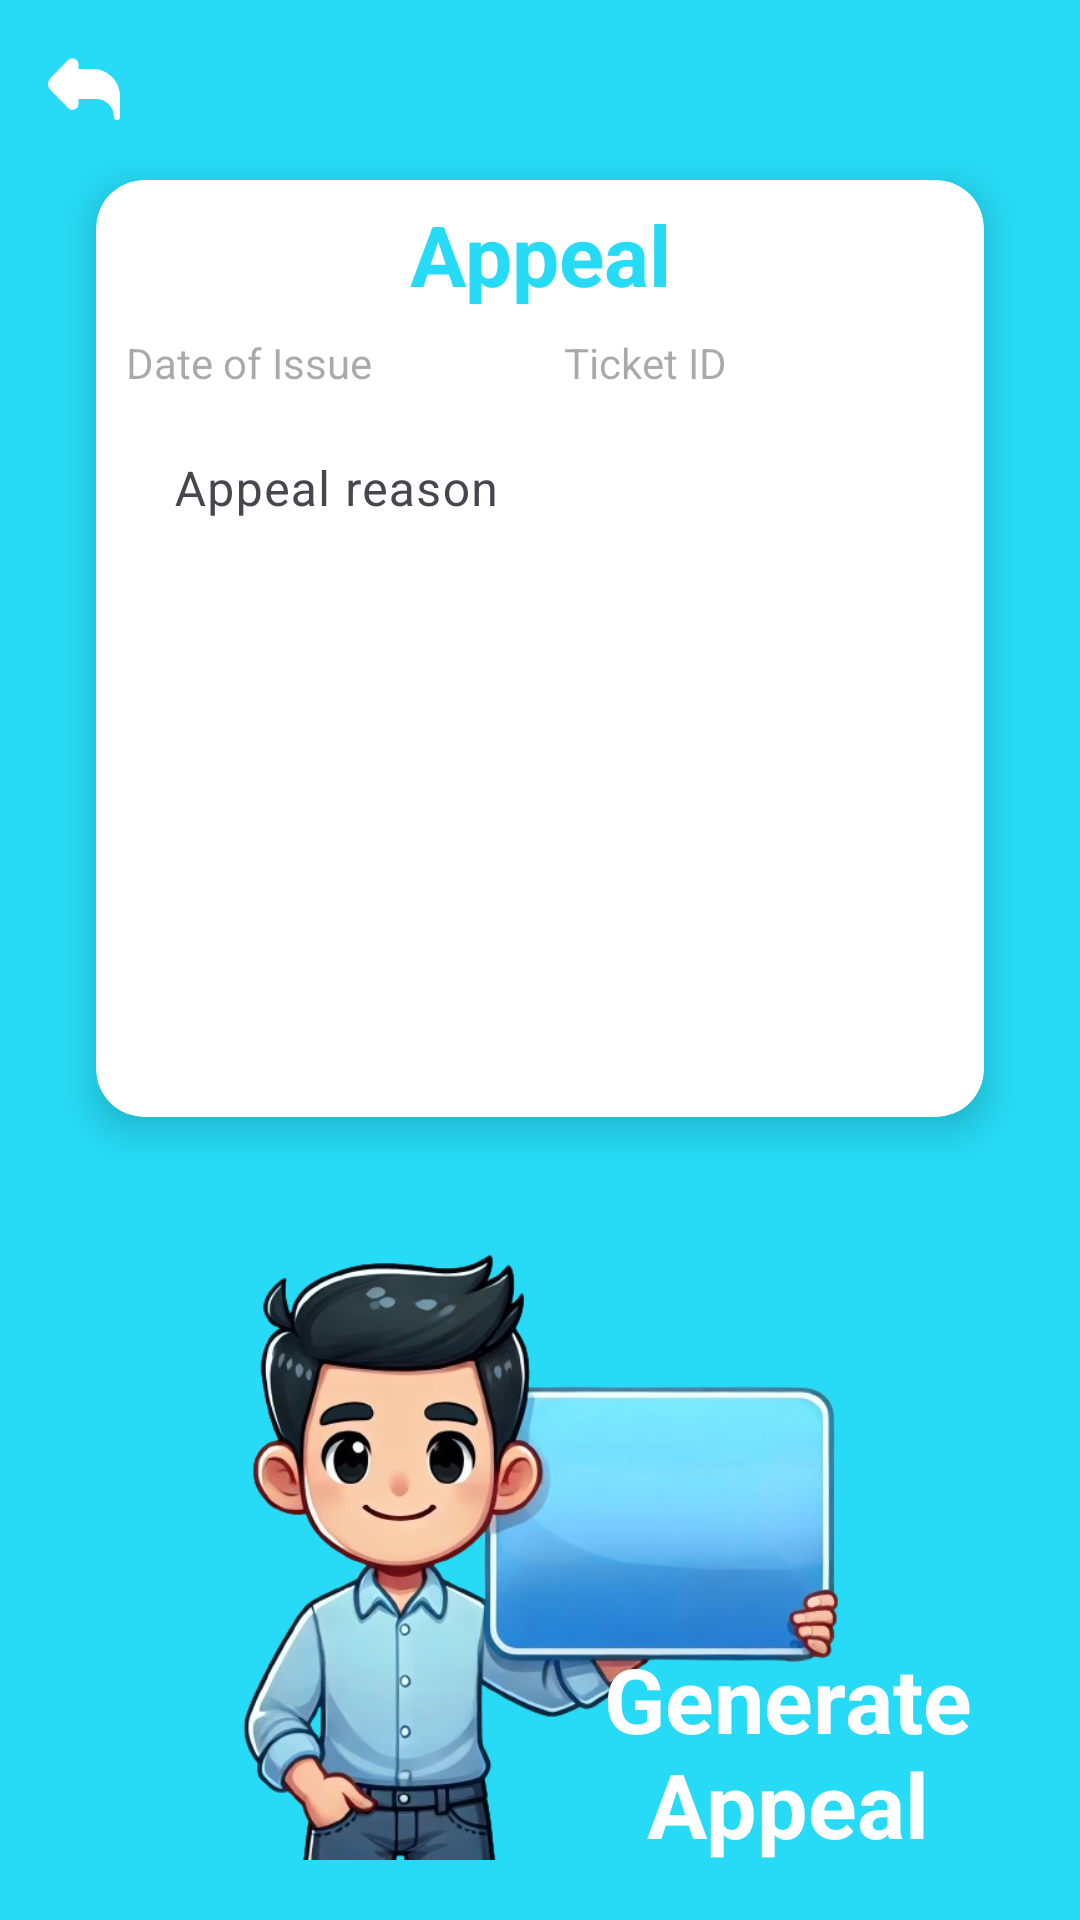

Where to tap for icons on this 1080 x 1920 app screen, as [x,y]:
Return: [84,89]
